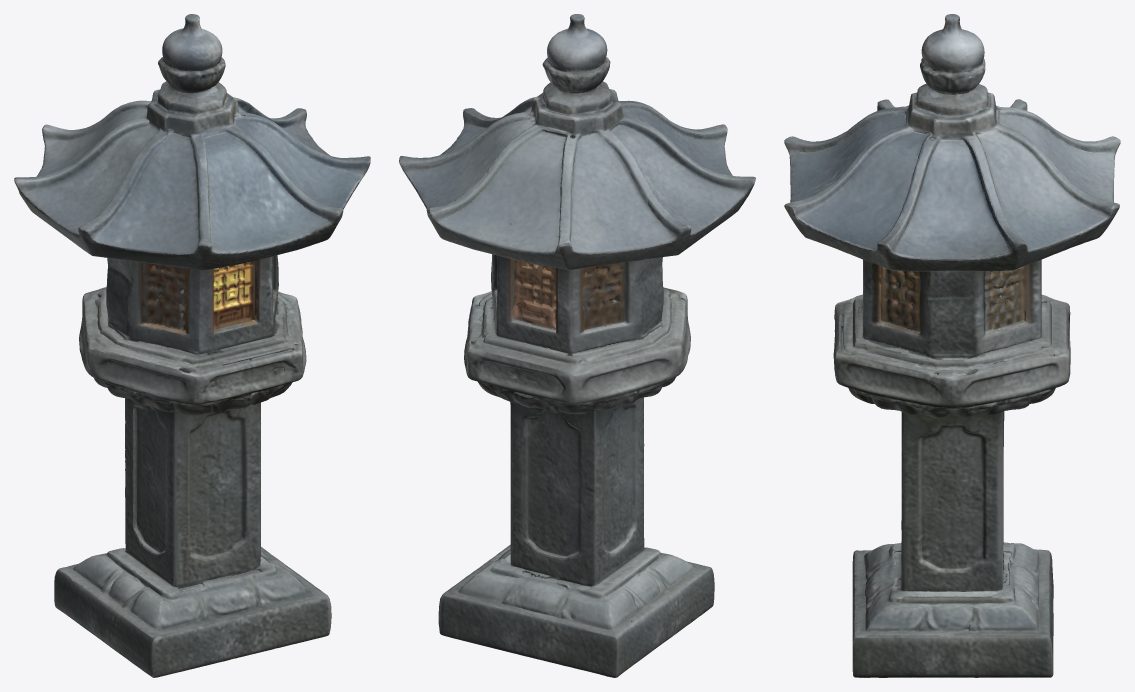
File: stone-lantern_raw.glb
3 views of the same model, side by side, from view 1: azimuth 30°, elevation 25°; view 2: azimuth 150°, elevation 25°; view 3: azimuth 270°, elevation 25° (orthographic). The views are drawn at different scales.
Parts seen in each view (by area): view 1: geometry_0; view 2: geometry_0; view 3: geometry_0.
Boxes of the visible parts, box(x1,y1,x2,y2) form: geometry_0: box(14, 14, 370, 677); geometry_0: box(399, 14, 755, 677); geometry_0: box(784, 14, 1120, 677).
Bounding box in the file's own units: 0.9063 × 1.8 × 0.8886.
Materials: 1 (1 with a texture image).
